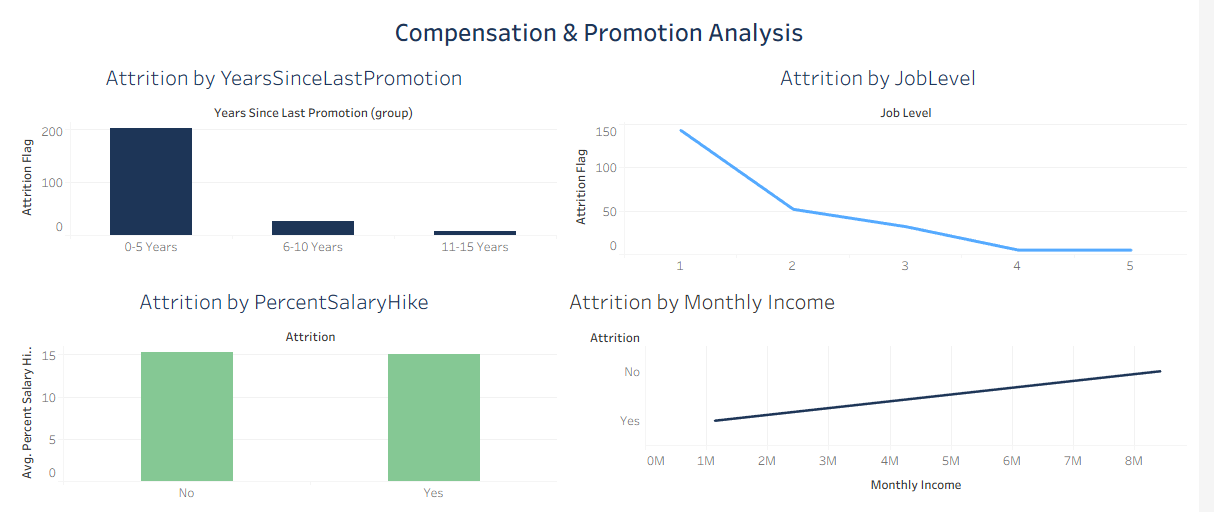

Layout of this report page (visuals, bound fields, positions):
{"tool":"tableau","page":{"name":"Compensation & Promotion Analysis","canvas":[1000,1000],"units":"permille","ordinal":0},"visuals":[{"type":"title","box":[6.7,10,986.7,60]},{"type":"worksheet","title":"Attrition by YearsSinceLastPromotion","mark":"Bar","rows":["Calculation_1067071674774835200"],"box":[6.7,70,461.7,460]},{"type":"worksheet","title":" Attrition by JobLevel","mark":"Line","rows":["Calculation_1067071674774835200"],"cols":["JobLevel"],"box":[468.3,70,525,460]},{"type":"worksheet","title":"Attrition by PercentSalaryHike","mark":"Bar","rows":["PercentSalaryHike"],"cols":["Attrition"],"box":[6.7,530,461.7,460]},{"type":"worksheet","title":"Attrition by Monthly Income","mark":"Line","rows":["Attrition"],"cols":["MonthlyIncome"],"box":[468.3,530,525,460]}]}

Visuals, with their boxes on the dashboard's canvas, which has no fixed pixel size, in thousandths of its width and height (x1, y1, x2, y2). These are canvas units, not pixel positions in the 1214x512 screenshot, which may show the page scaled, cropped or inside an application window:
title: x1=7 y1=10 x2=993 y2=70
"Attrition by YearsSinceLastPromotion" worksheet (Bar marks): x1=7 y1=70 x2=468 y2=530
" Attrition by JobLevel" worksheet (Line marks): x1=468 y1=70 x2=993 y2=530
"Attrition by PercentSalaryHike" worksheet (Bar marks): x1=7 y1=530 x2=468 y2=990
"Attrition by Monthly Income" worksheet (Line marks): x1=468 y1=530 x2=993 y2=990
